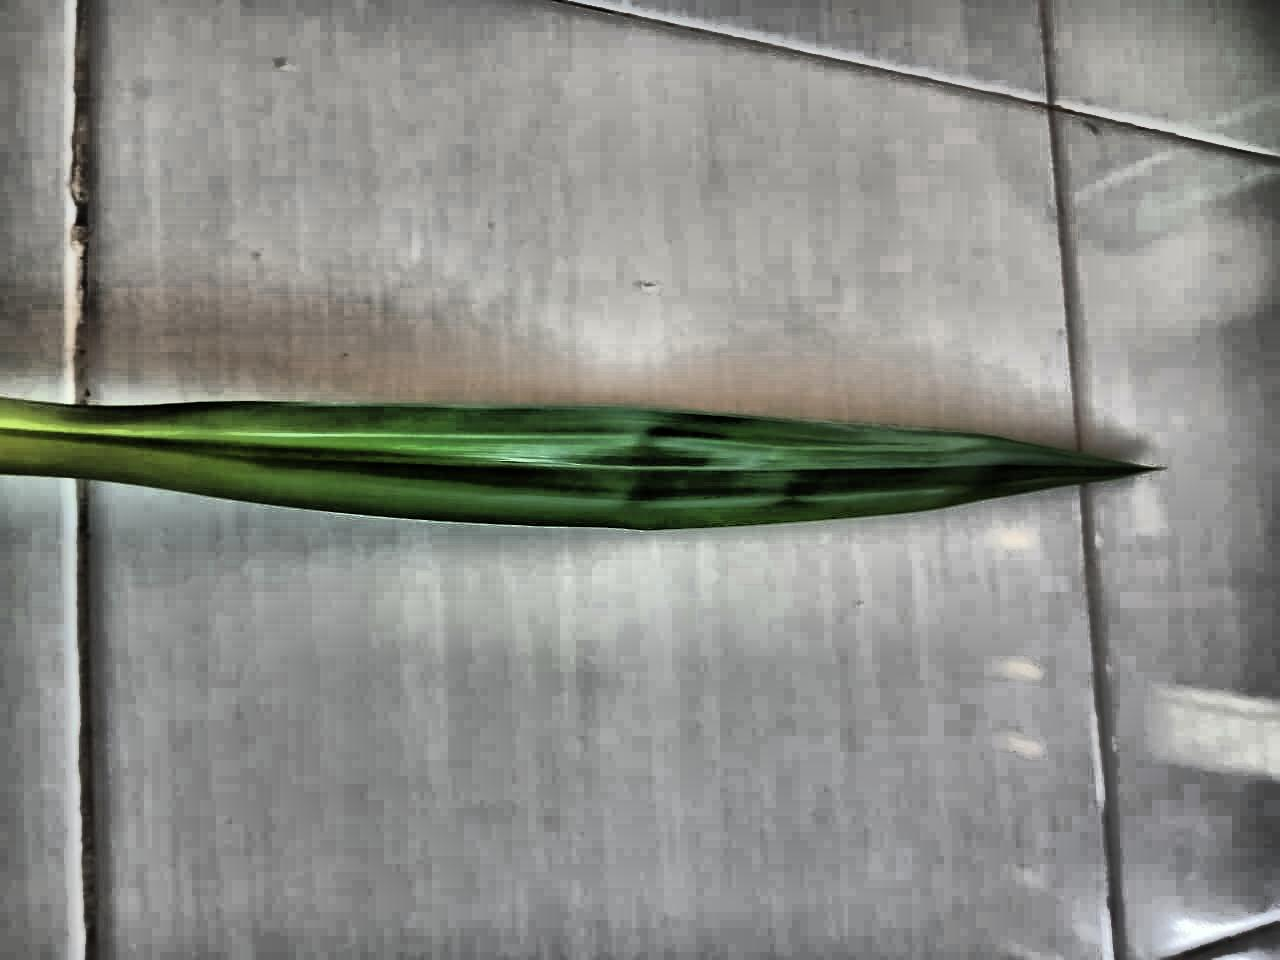daun pandan: (0, 398, 1153, 530)
